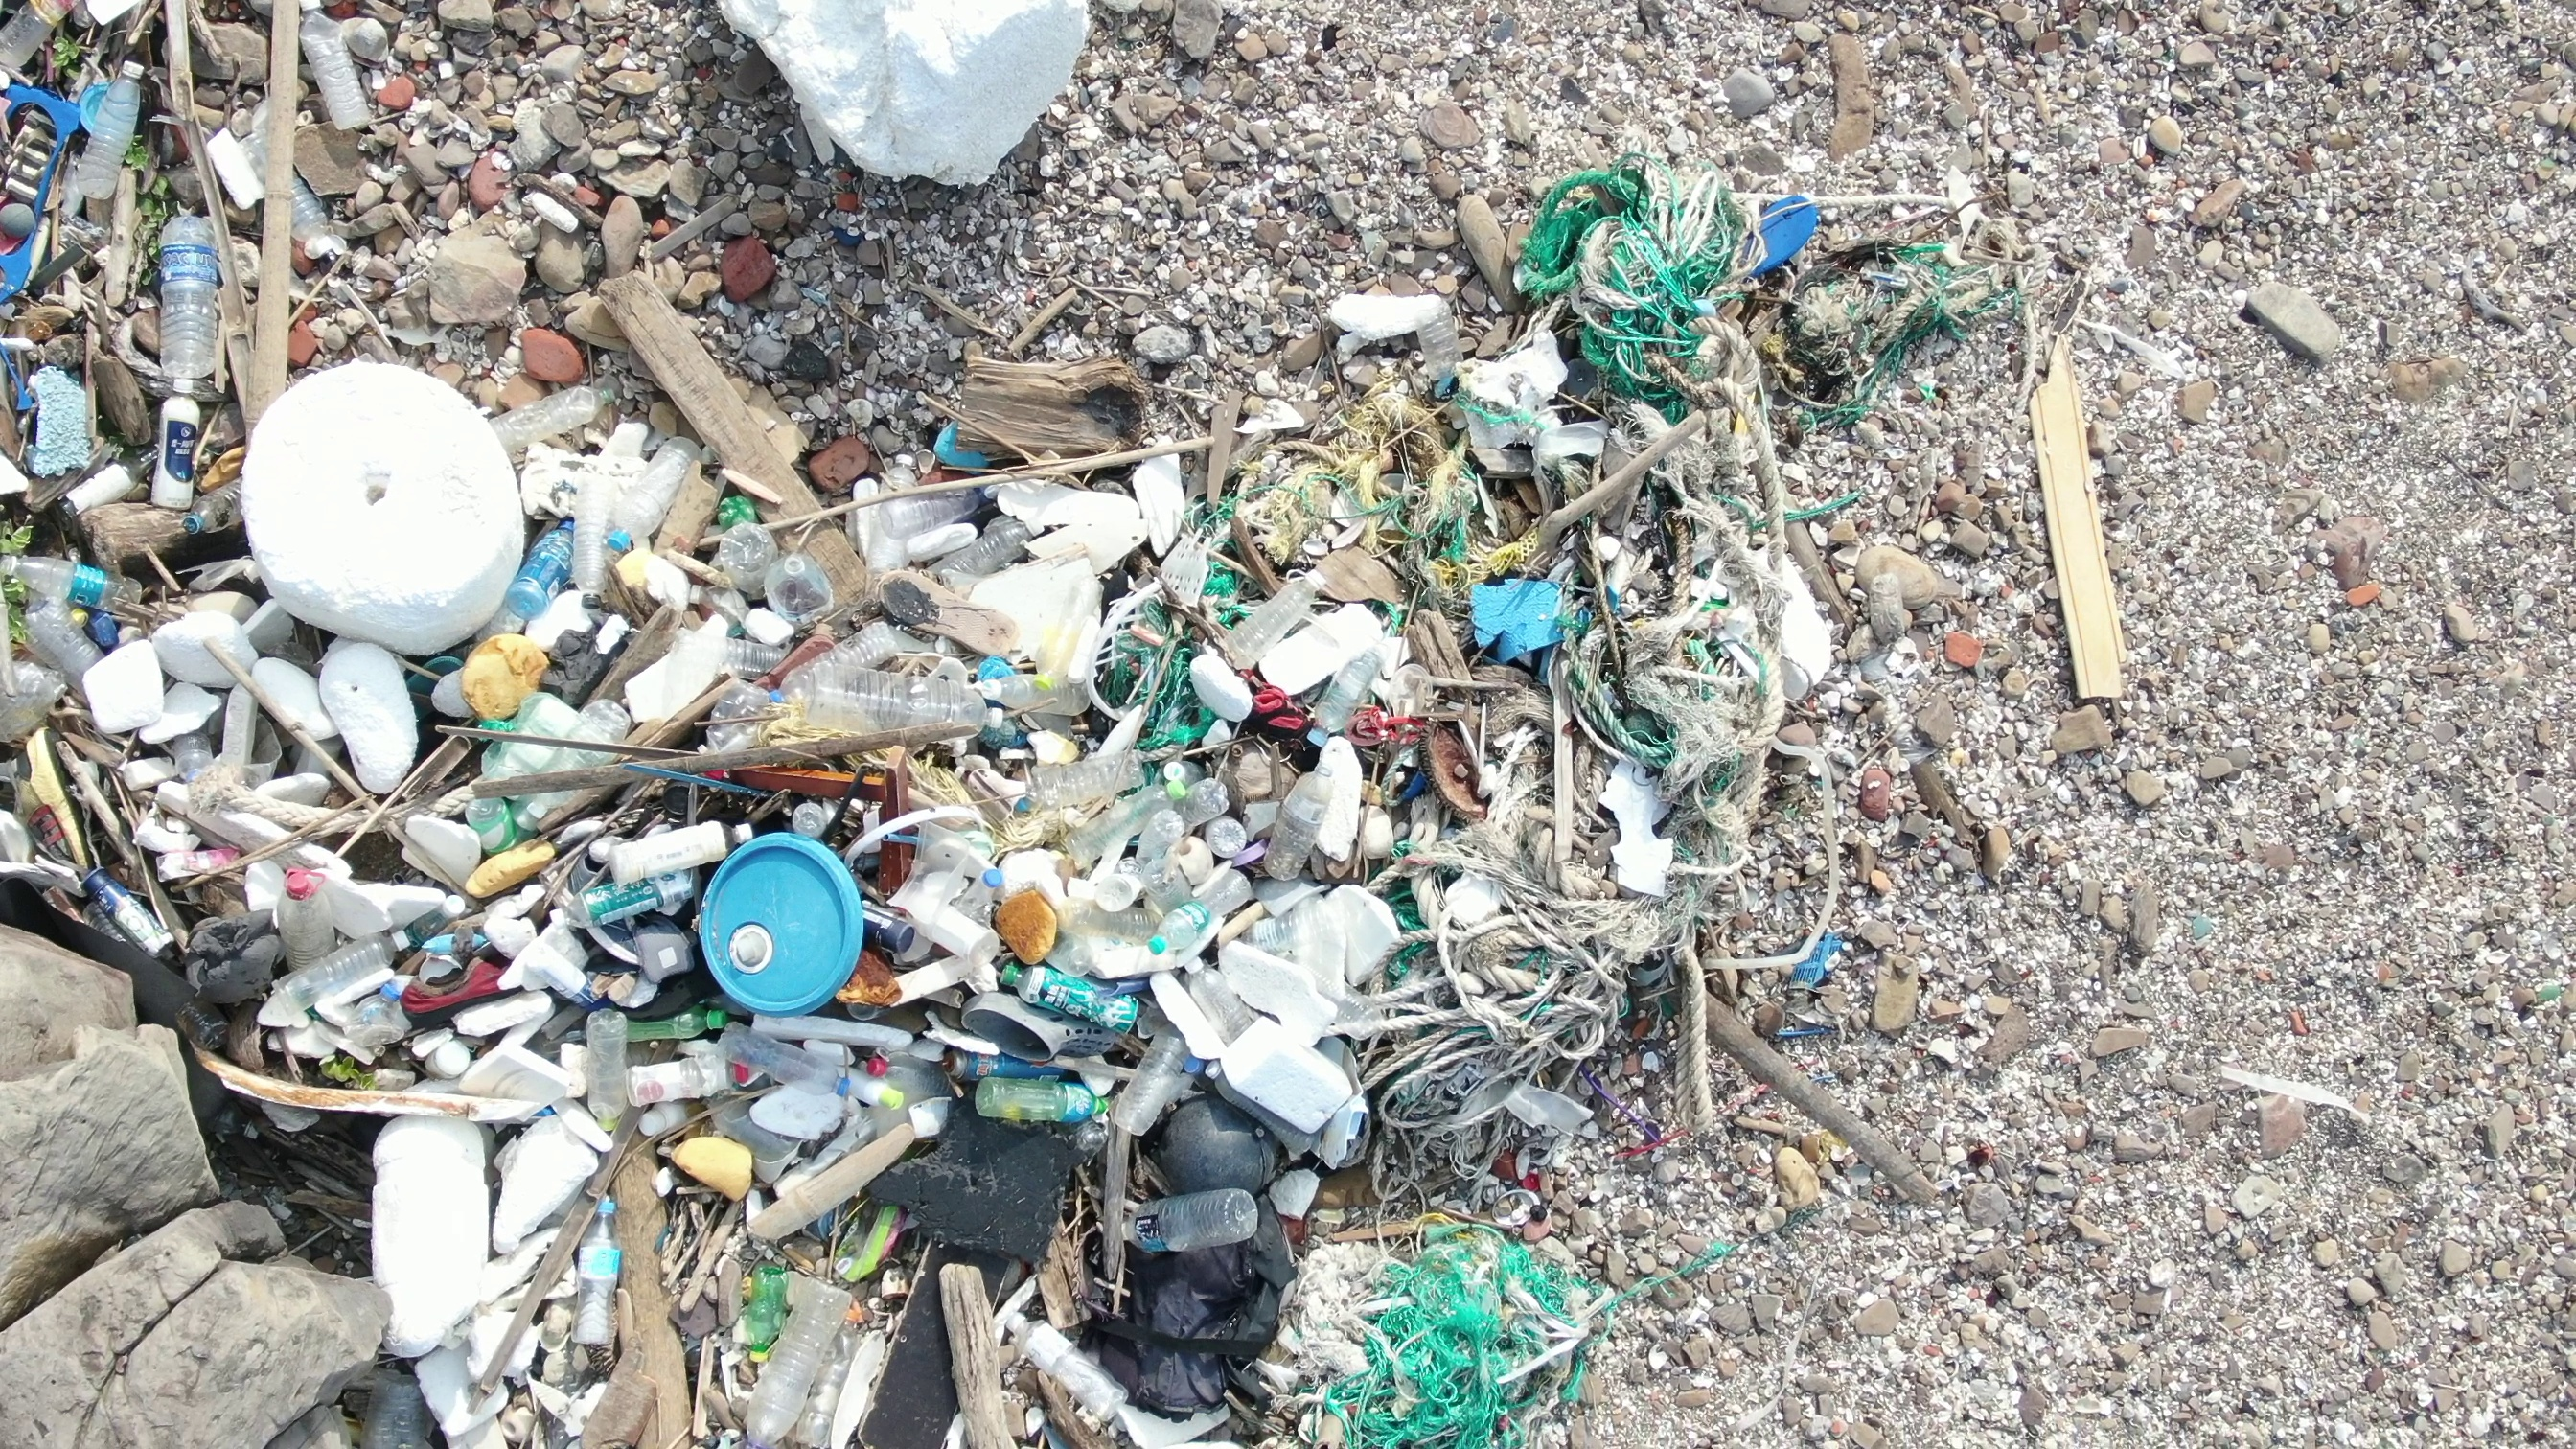bottle: (734, 1277, 876, 1444), (805, 658, 1023, 745), (253, 924, 439, 1023), (260, 2, 377, 133), (71, 48, 159, 205), (1115, 1182, 1265, 1272), (156, 193, 223, 395), (481, 377, 626, 465), (1260, 754, 1352, 883), (605, 817, 777, 883), (1077, 761, 1198, 853), (603, 432, 695, 548), (1226, 561, 1330, 663), (5, 548, 147, 619), (573, 1177, 626, 1362), (1001, 957, 1143, 1026), (147, 372, 216, 511), (725, 1021, 855, 1095), (934, 506, 1054, 584), (909, 812, 1019, 897), (1309, 637, 1394, 745), (899, 888, 1016, 961), (727, 1249, 805, 1357), (1019, 743, 1157, 803), (571, 872, 709, 927), (573, 1003, 632, 1132), (506, 513, 584, 607), (28, 614, 115, 695), (1139, 775, 1235, 846), (980, 1079, 1120, 1125), (1143, 883, 1228, 952), (630, 1053, 734, 1106), (945, 1051, 1074, 1093), (761, 547, 823, 628), (283, 179, 338, 269), (269, 876, 331, 955), (370, 1366, 426, 1449), (663, 633, 775, 671), (456, 796, 513, 856), (630, 1007, 731, 1040)
garbage: (292, 163, 2049, 1449), (2, 11, 391, 1136)
